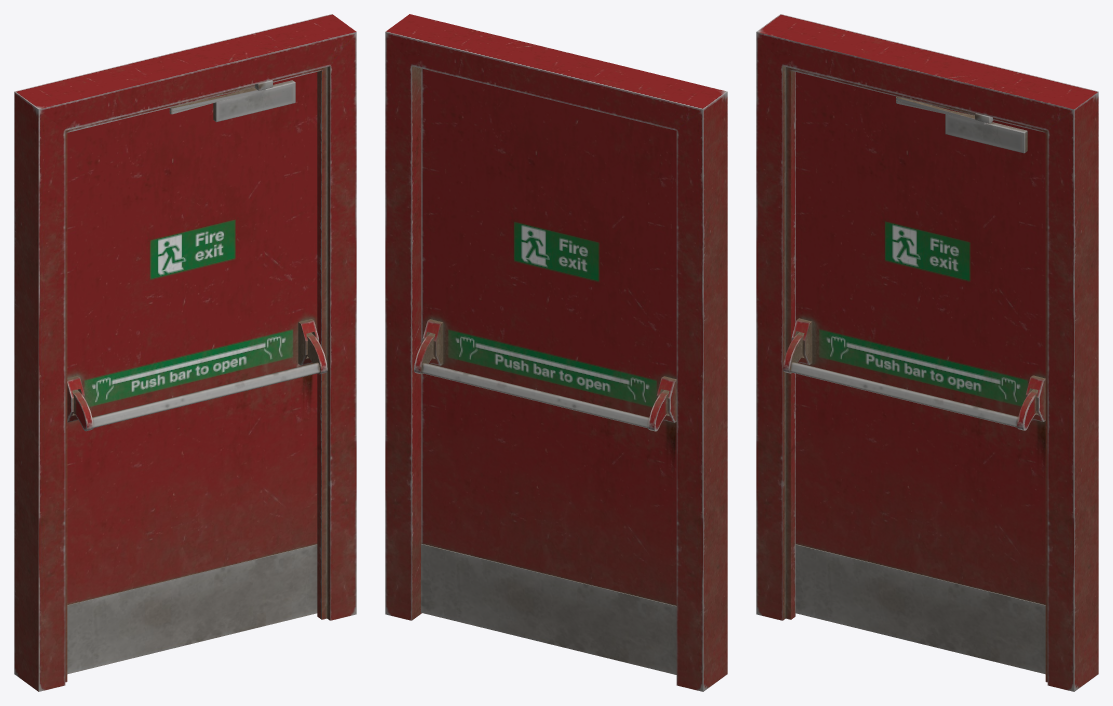
The model's file is door.fbx.
3 views of the same model, side by side, from view 1: azimuth 30°, elevation 25°; view 2: azimuth 150°, elevation 25°; view 3: azimuth 330°, elevation 25° (orthographic).
Visible parts, largest first — view 1: door016; view 2: door016; view 3: door016.
Part boxes in pixels (x1,y1,x2,y2): door016: [14, 14, 356, 691]; door016: [385, 14, 727, 691]; door016: [756, 14, 1098, 691].
Size of the model in its own units: 3503 by 6130 by 884.
1 material, 1 textured.
